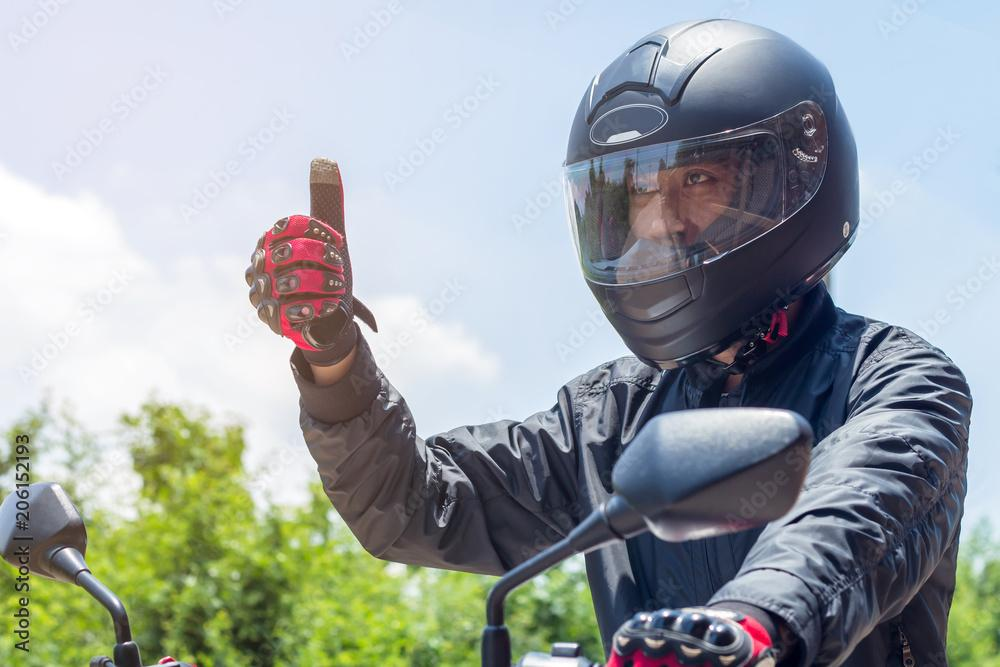helmet: (561, 17, 862, 372)
